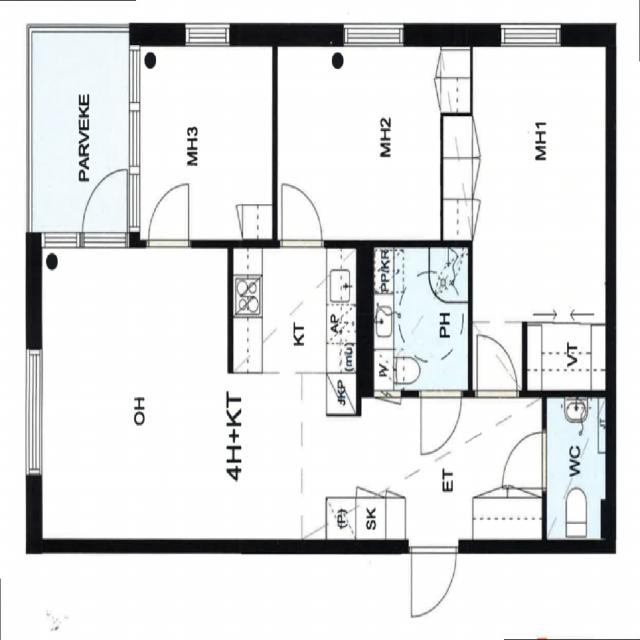door: (83, 170, 126, 248), (412, 540, 456, 614), (476, 333, 517, 398), (421, 390, 461, 454), (148, 184, 188, 248), (282, 184, 322, 248), (502, 432, 547, 488)
